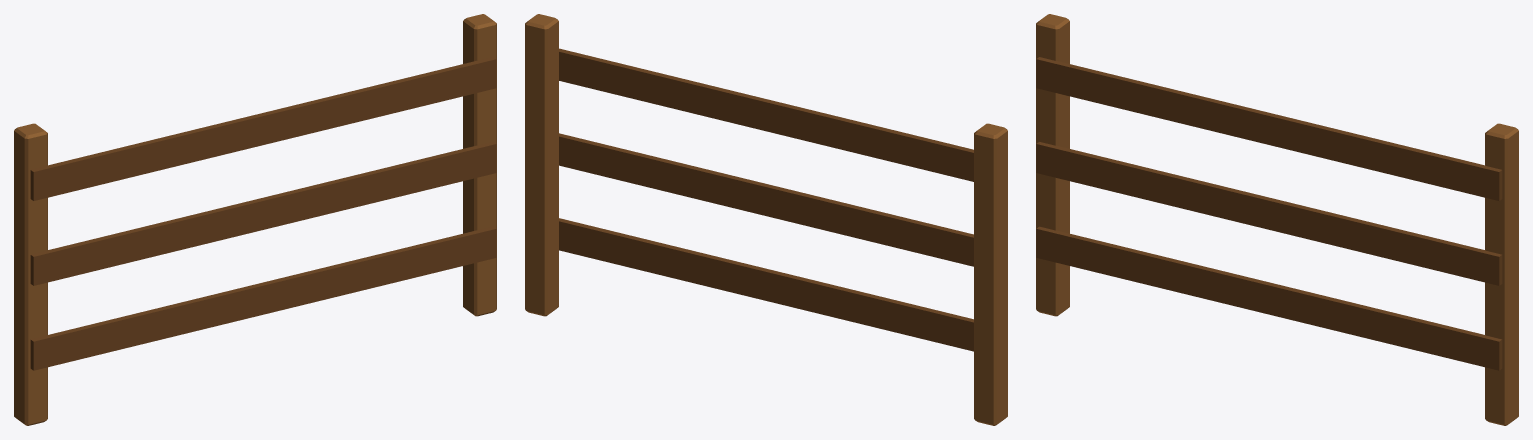
Rendered from fence_wood_2m.glb.
3 renders of one model, left to right at view 1: azimuth 30°, elevation 25°; view 2: azimuth 150°, elevation 25°; view 3: azimuth 330°, elevation 25°, orthographic.
Parts seen in each view (by area): view 1: fence_wood_2m; view 2: fence_wood_2m; view 3: fence_wood_2m.
Boxes of the visible parts, <box> form: fence_wood_2m: <box>14,14,496,425</box>; fence_wood_2m: <box>525,14,1007,425</box>; fence_wood_2m: <box>1036,14,1518,425</box>.
Bounding box in the file's own units: 2.04 × 1.2 × 0.1225.
